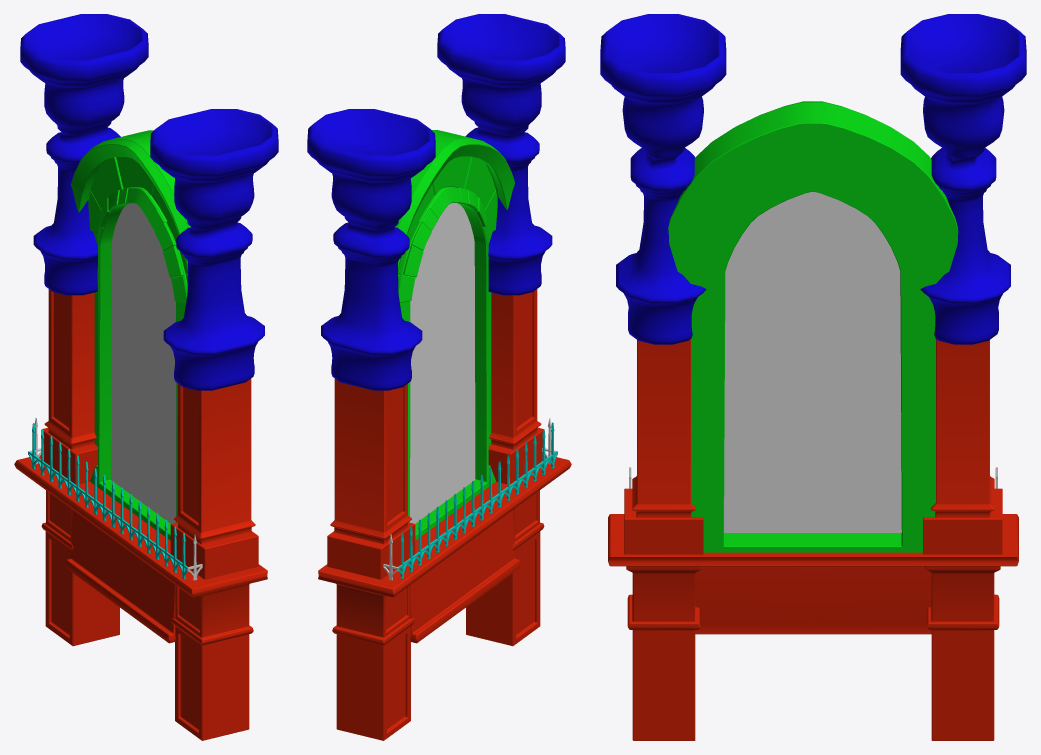
The model's file is frame oriented.fbx.
The picture shows the model from 3 angles, left to right: view 1: azimuth 30°, elevation 25°; view 2: azimuth 150°, elevation 25°; view 3: azimuth 270°, elevation 25°; orthographic projection. The views are drawn at different scales.
Parts seen in each view (by area): view 1: Frame, Plane.001; view 2: Frame, Plane.001; view 3: Frame, Plane.001.
Part boxes in pixels (x1,y1,x2,y2): Frame: (14,14,278,740); Plane.001: (111,203,176,523); Frame: (307,14,571,740); Plane.001: (410,203,475,523); Frame: (600,14,1026,740); Plane.001: (724,192,901,532).
Bounding box in the file's own units: 1123 × 5596 × 3152.
